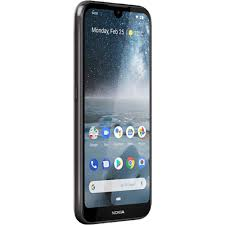nokia: (73, 1, 152, 223)
